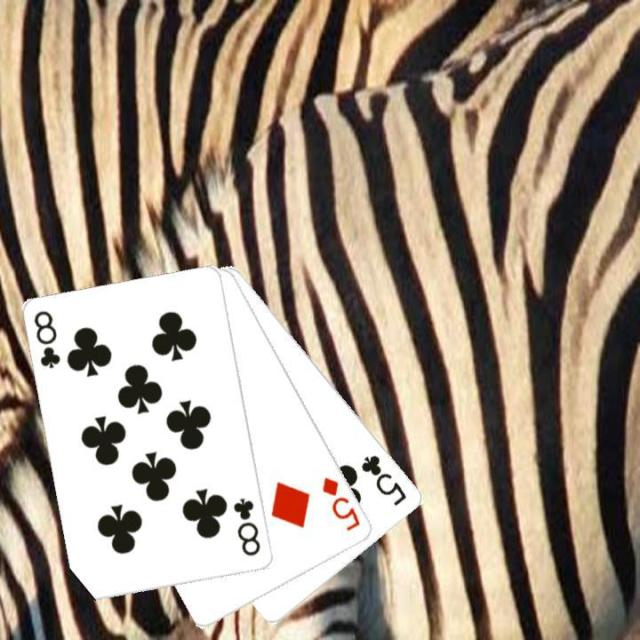5C: (357, 450, 410, 508)
5D: (318, 473, 363, 533)
8C: (229, 494, 263, 558), (30, 306, 62, 371)
